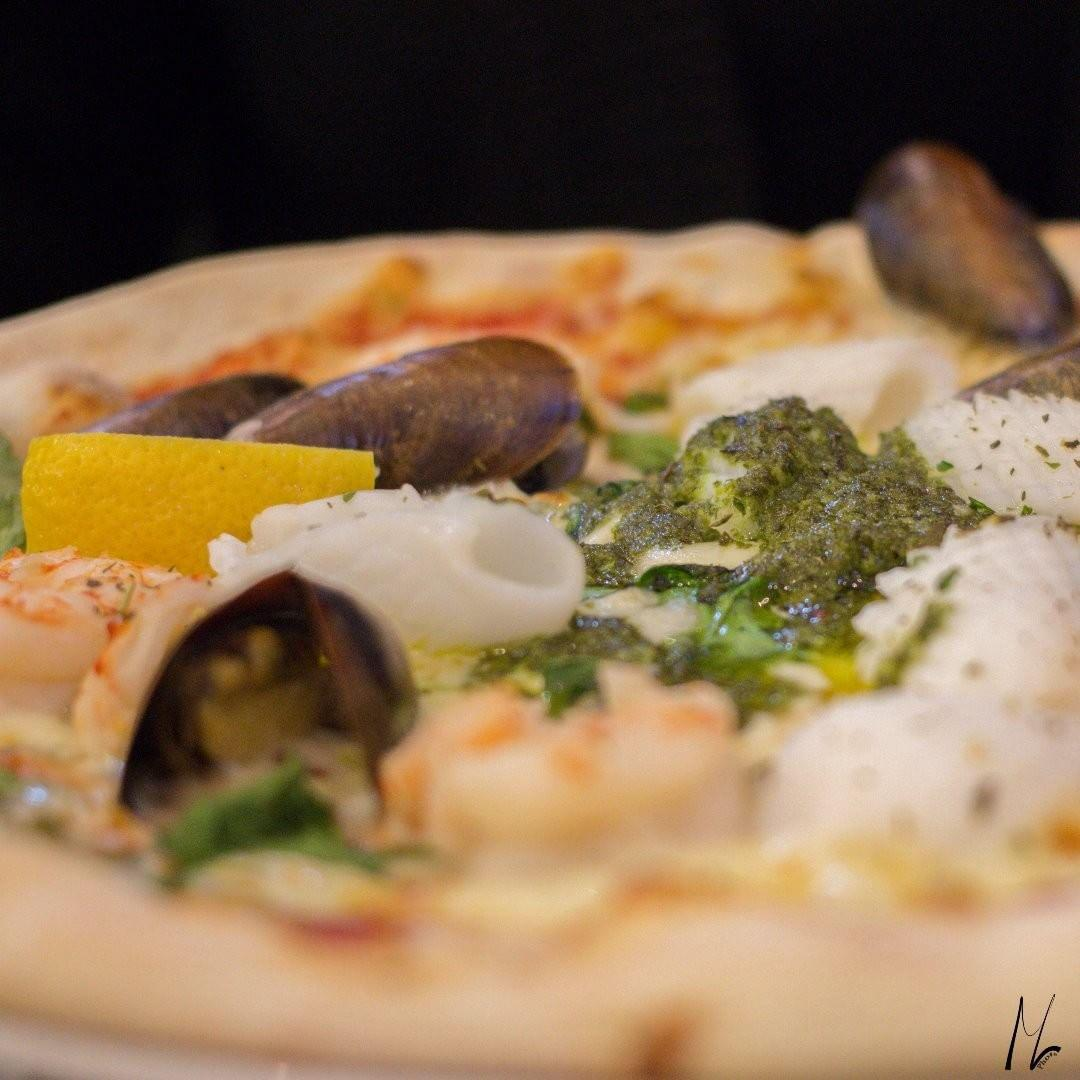Broccoli: (589, 397, 901, 656)
Pizza: (7, 133, 1080, 1080)
